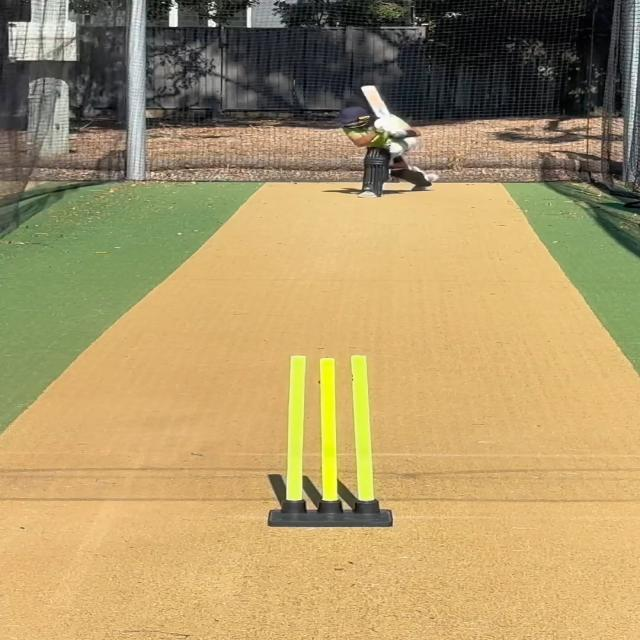stump: (268, 351, 393, 529)
